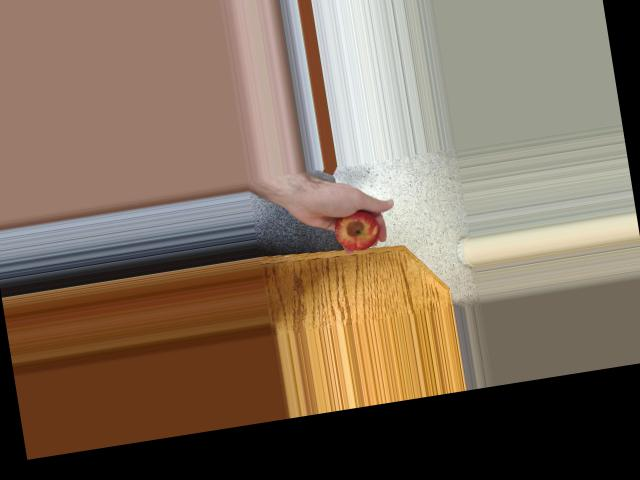apple: (325, 203, 384, 255)
